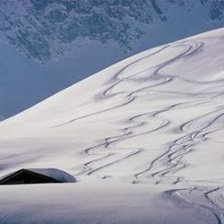neutral: (5, 12, 222, 220)
